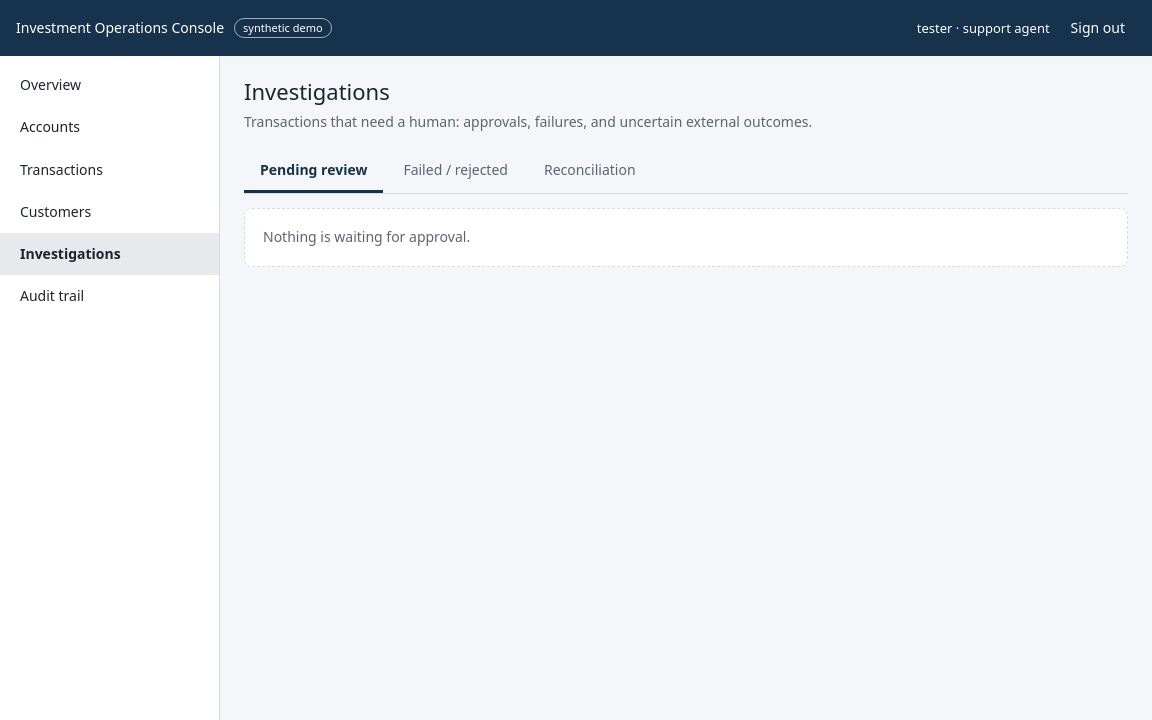
Investigations › switches tabs and queries the matching statuses
Check: the text "Nothing is waiting for approval." is shown, box [244, 208, 1128, 267]
Click the tab "Failed / rejected" at (456, 172), box [387, 150, 524, 194]
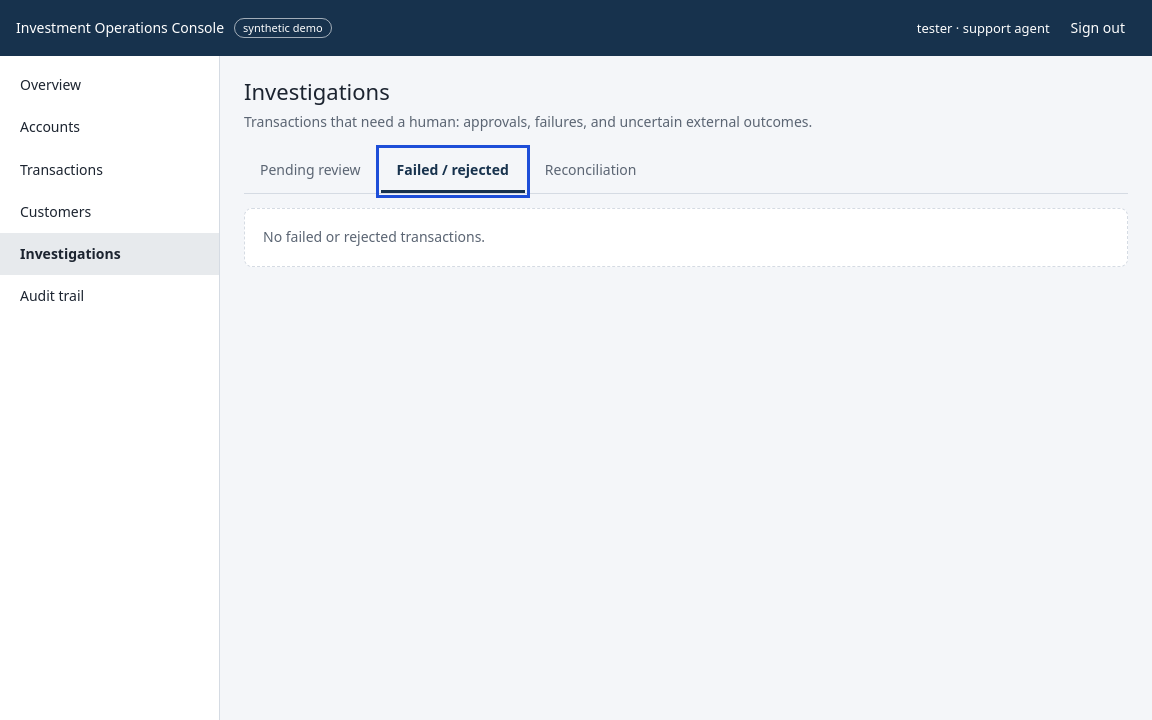
Check: the text "No failed or rejected transactions." is shown, box [244, 208, 1128, 267]
